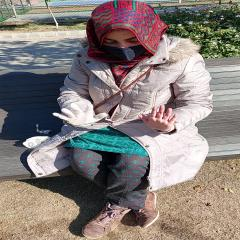gloved: (53, 104, 108, 128)
not-gloved: (138, 106, 178, 134)
